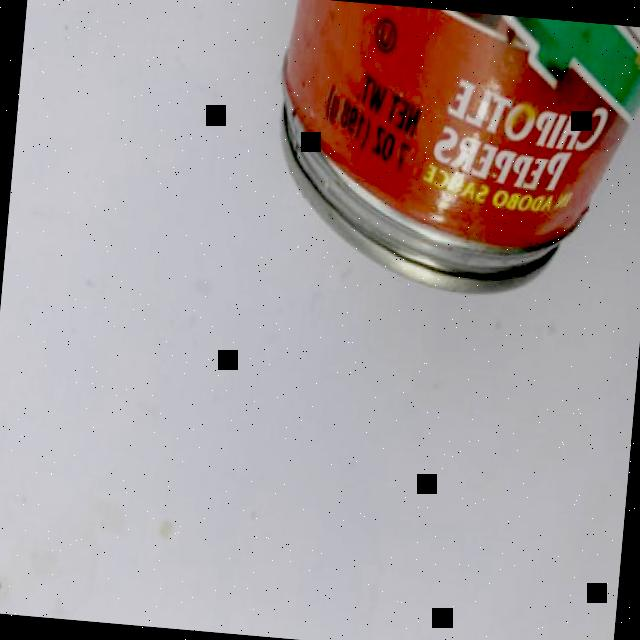can: (255, 0, 640, 315)
